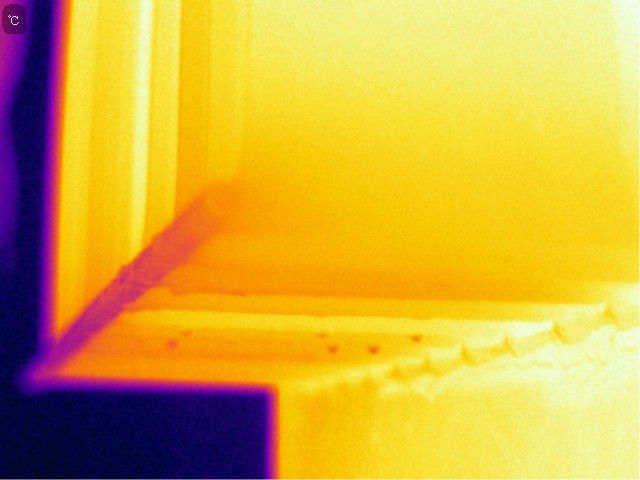Oil: (309, 324, 331, 343), (179, 323, 193, 339), (165, 338, 178, 353), (365, 343, 381, 354), (411, 332, 421, 344), (329, 342, 337, 356)
